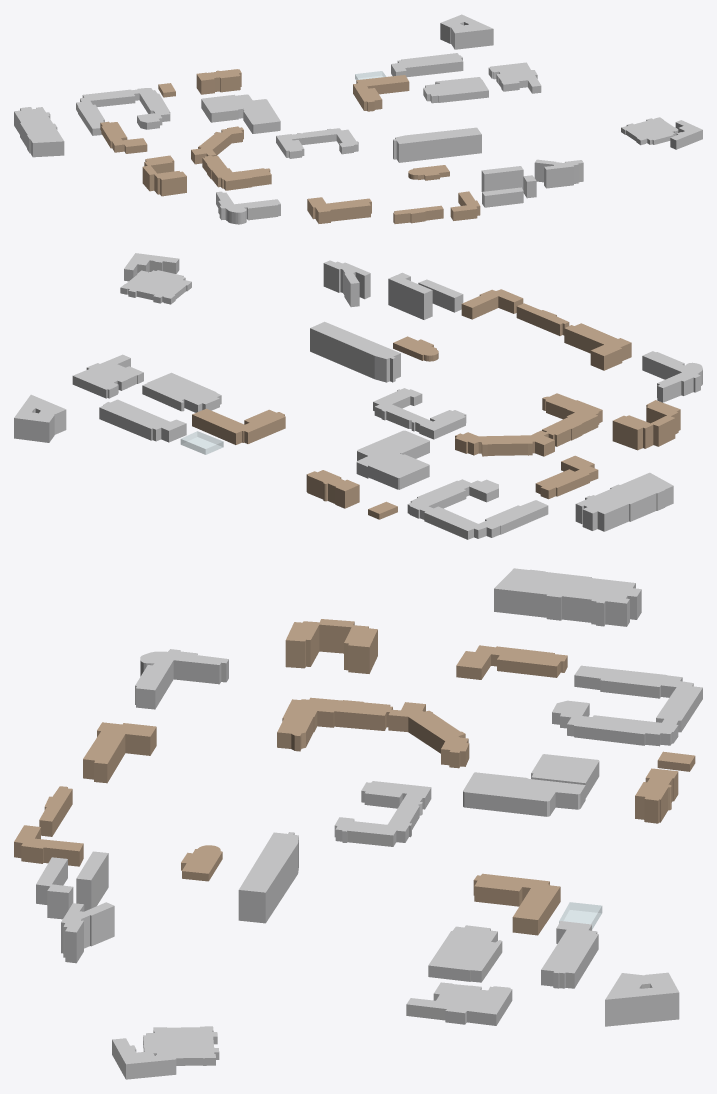
File: campus-buildings.glb
3 views of the same model, one above another, from view 1: azimuth 30°, elevation 25°; view 2: azimuth 150°, elevation 25°; view 3: azimuth 270°, elevation 25° (orthographic). The views are drawn at different scales.
Visible parts, largest first — view 1: BLD_D2, BLD_A1, BLD_D4, BLD_E1, BLD_B7, BLD_E8, BLD_E5, BLD_B2, BLD_E7, BLD_B3, BLD_E6, BLD_B4 (+14 smaller); view 2: BLD_D2, BLD_D4, BLD_A1, BLD_E8, BLD_E1, BLD_B4, BLD_B3, BLD_E5, BLD_E3, BLD_B2, BLD_E7, BLD_B1 (+15 smaller); view 3: BLD_D2, BLD_D4, BLD_C1.001, BLD_E8, BLD_E1, BLD_E5, BLD_A1, BLD_B7, BLD_B4, BLD_E7, BLD_B1, BLD_B2 (+15 smaller).
Boxes of the visible parts, left/top/right/bottom form: BLD_D2: left=76, top=88, right=170, bottom=135; BLD_A1: left=393, top=127, right=481, bottom=162; BLD_D4: left=14, top=107, right=64, bottom=157; BLD_E1: left=276, top=128, right=358, bottom=158; BLD_B7: left=440, top=14, right=493, bottom=49; BLD_E8: left=142, top=155, right=186, bottom=196; BLD_E5: left=202, top=155, right=271, bottom=190; BLD_B2: left=423, top=77, right=488, bottom=103; BLD_E7: left=216, top=191, right=280, bottom=224; BLD_B3: left=391, top=53, right=463, bottom=77; BLD_E6: left=307, top=197, right=371, bottom=223; BLD_B4: left=353, top=75, right=409, bottom=111; BLD_D2: left=407, top=479, right=548, bottom=539; BLD_D4: left=575, top=472, right=673, bottom=531; BLD_A1: left=310, top=321, right=400, bottom=382; BLD_E8: left=612, top=400, right=680, bottom=450; BLD_E1: left=373, top=388, right=466, bottom=439; BLD_B4: left=192, top=408, right=285, bottom=444; BLD_B3: left=99, top=399, right=186, bottom=442; BLD_E5: left=542, top=393, right=602, bottom=446; BLD_E3: left=455, top=430, right=554, bottom=456; BLD_B2: left=142, top=372, right=221, bottom=412; BLD_E7: left=642, top=351, right=702, bottom=402; BLD_B1: left=72, top=354, right=143, bottom=398; BLD_D2: left=552, top=665, right=702, bottom=746; BLD_D4: left=494, top=568, right=641, bottom=626; BLD_C1.001: left=463, top=772, right=585, bottom=816; BLD_E8: left=285, top=619, right=377, bottom=673; BLD_E1: left=334, top=781, right=431, bottom=846; BLD_E5: left=277, top=697, right=392, bottom=751; BLD_A1: left=238, top=832, right=298, bottom=923; BLD_B7: left=605, top=972, right=679, bottom=1026; BLD_B4: left=473, top=873, right=560, bottom=935; BLD_E7: left=135, top=649, right=228, bottom=709; BLD_B1: left=406, top=982, right=512, bottom=1025; BLD_B2: left=428, top=925, right=502, bottom=982.
Bounding box in the file's own units: 459 × 34.82 × 304.
